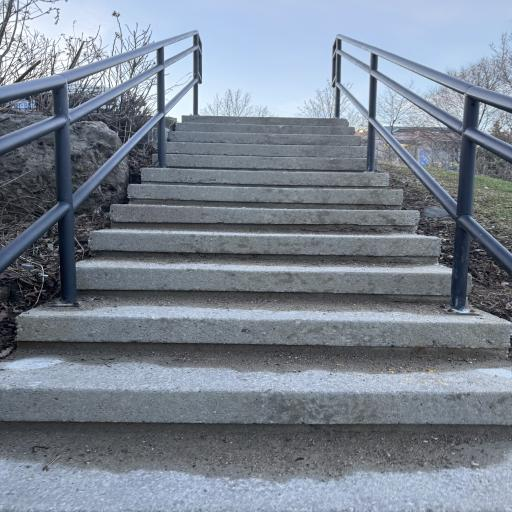Stairs: (0, 116, 512, 511)
